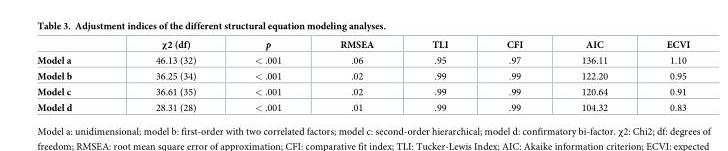table: (36, 37, 689, 112)
table column: (113, 37, 224, 112), (310, 37, 402, 112), (224, 37, 310, 112), (551, 37, 636, 112), (36, 37, 113, 112), (476, 37, 551, 112), (402, 37, 476, 112), (636, 37, 689, 112)
table column header: (36, 37, 689, 52)
table row: (36, 52, 689, 68), (36, 83, 689, 99), (36, 37, 689, 52), (36, 68, 689, 83), (36, 99, 689, 112)
